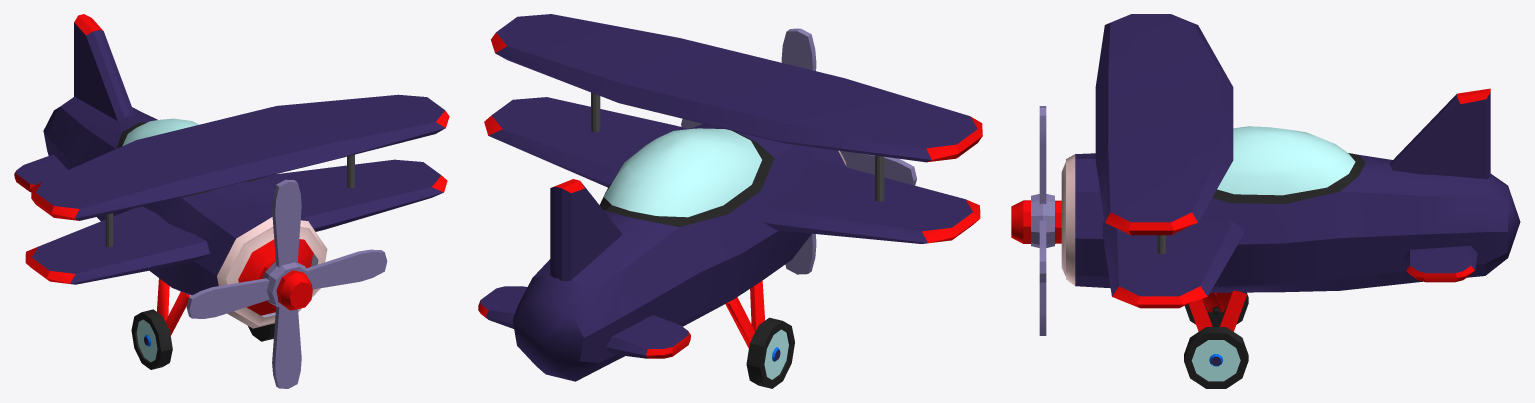
The model's file is skin4.fbx.
3 views of the same model, side by side, from view 1: azimuth 30°, elevation 25°; view 2: azimuth 150°, elevation 25°; view 3: azimuth 270°, elevation 25° (orthographic). The views are drawn at different scales.
Parts seen in each view (by area): view 1: Cylinder, Torus.001, Cube; view 2: Cylinder, Cube, Torus.001; view 3: Cylinder, Cube, Torus.001.
Part boxes in pixels (left/top/right/bottom): Cylinder: left=14, top=14, right=449, bottom=328; Torus.001: left=186, top=179, right=387, bottom=388; Cube: left=131, top=278, right=274, bottom=369; Cylinder: left=478, top=14, right=982, bottom=381; Cube: left=725, top=280, right=794, bottom=388; Torus.001: left=681, top=28, right=916, bottom=274; Cylinder: left=1011, top=14, right=1520, bottom=308; Cube: left=1184, top=290, right=1248, bottom=388; Torus.001: left=1031, top=106, right=1054, bottom=335.
Size of the model in its own units: 493 by 288 by 497.
